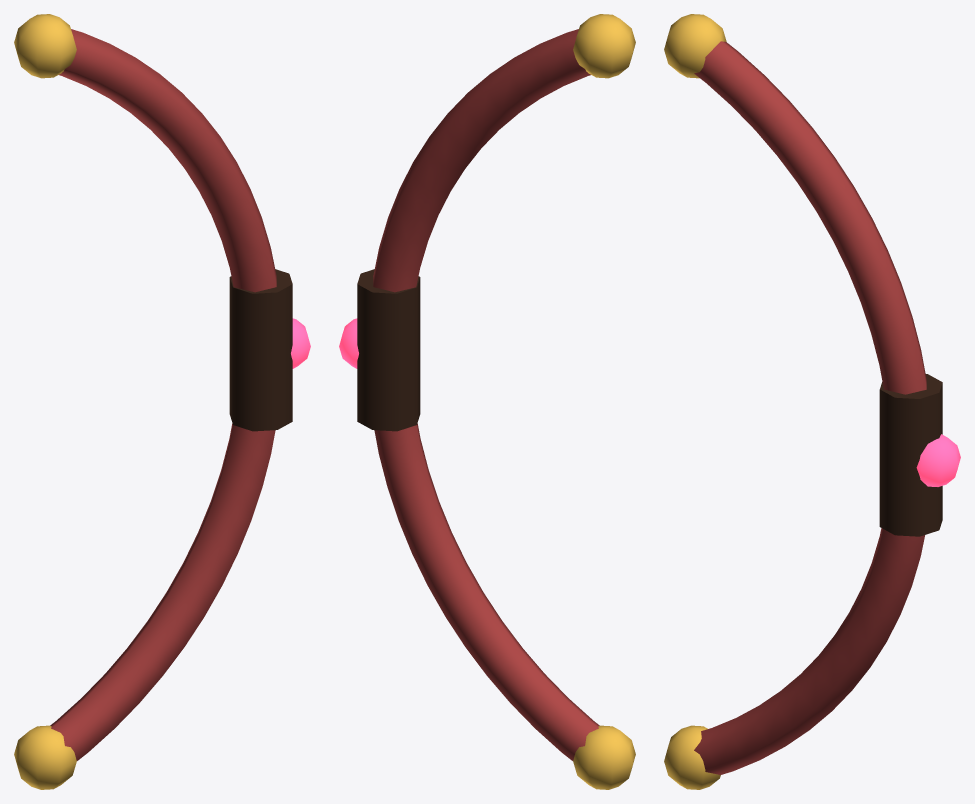
Rendered from bow_f0_3a715052.glb.
3 views of the same model, side by side, from view 1: azimuth 30°, elevation 25°; view 2: azimuth 150°, elevation 25°; view 3: azimuth 330°, elevation 25° (orthographic).
Parts seen in each view (by area): view 1: m0_ow80_, m1_ow80_, m3_ow80_, m2_gm160_; view 2: m0_ow80_, m1_ow80_, m3_ow80_, m2_gm160_; view 3: m0_ow80_, m1_ow80_, m3_ow80_, m2_gm160_.
Boxes of the visible parts, bbox=[...] form: m0_ow80_: bbox=[50, 29, 276, 760]; m1_ow80_: bbox=[229, 269, 292, 431]; m3_ow80_: bbox=[14, 14, 76, 789]; m2_gm160_: bbox=[291, 318, 310, 368]; m0_ow80_: bbox=[373, 29, 599, 760]; m1_ow80_: bbox=[357, 269, 420, 431]; m3_ow80_: bbox=[573, 14, 635, 789]; m2_gm160_: bbox=[339, 318, 358, 368]; m0_ow80_: bbox=[694, 41, 926, 774]; m1_ow80_: bbox=[879, 374, 942, 536]; m3_ow80_: bbox=[664, 14, 726, 789]; m2_gm160_: bbox=[916, 434, 960, 486].
Size of the model in its own units: 0.6194 by 1.57 by 0.12.
